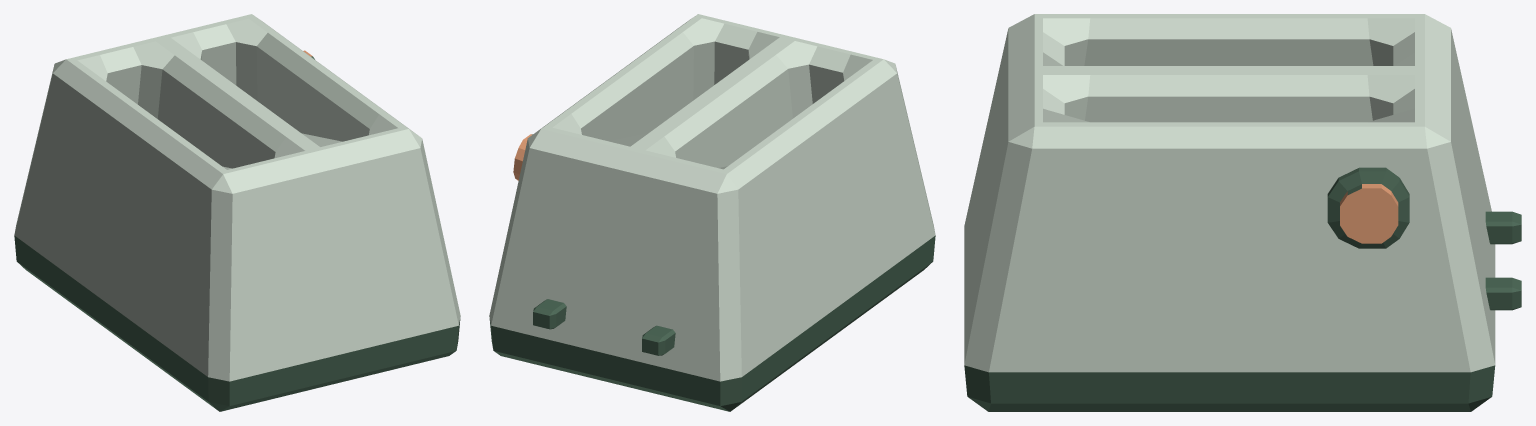
File: Kitchen_Toaster.fbx
3 renders of one model, left to right at view 1: azimuth 30°, elevation 25°; view 2: azimuth 150°, elevation 25°; view 3: azimuth 270°, elevation 25°, orthographic. The views are drawn at different scales.
Parts seen in each view (by area): view 1: Kitchen_Toaster, Kitchen_Toaster.002; view 2: Kitchen_Toaster, Kitchen_Toaster.002; view 3: Kitchen_Toaster, Kitchen_Toaster.002, Kitchen_Toaster.001.
Part boxes in pixels (box(x1,y1,x2,y2)): Kitchen_Toaster: box(14, 14, 460, 381); Kitchen_Toaster.002: box(14, 56, 460, 411); Kitchen_Toaster: box(489, 14, 935, 381); Kitchen_Toaster.002: box(489, 134, 935, 411); Kitchen_Toaster: box(964, 14, 1495, 372); Kitchen_Toaster.002: box(964, 167, 1521, 411); Kitchen_Toaster.001: box(1340, 184, 1398, 243).
Bounding box in the file's own units: 39.6 × 21.33 × 26.42.
